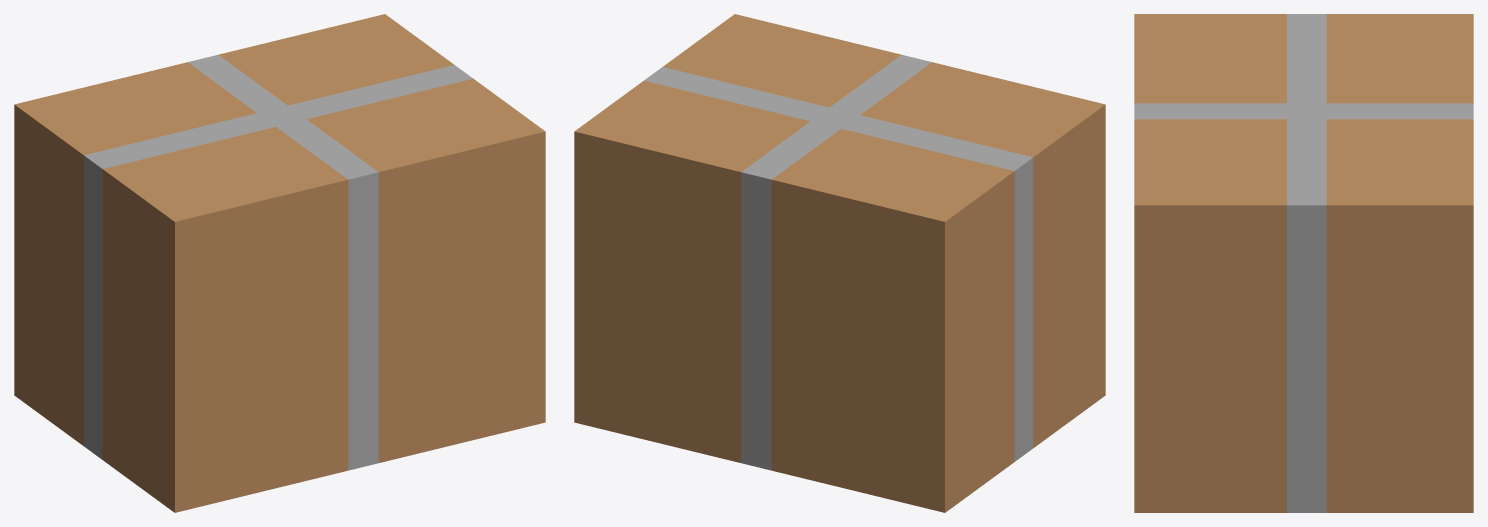
Rendered from Carbord Box plus.glb.
3 views of the same model, side by side, from view 1: azimuth 30°, elevation 25°; view 2: azimuth 150°, elevation 25°; view 3: azimuth 270°, elevation 25° (orthographic). The views are drawn at different scales.
Visible parts, largest first — view 1: Cube; view 2: Cube; view 3: Cube.
Boxes of the visible parts, box(x1,y1,x2,y2) form: Cube: box(14, 14, 545, 512); Cube: box(574, 14, 1105, 512); Cube: box(1134, 14, 1473, 512).
Bounding box in the file's own units: 0.3 × 0.225 × 0.225.
